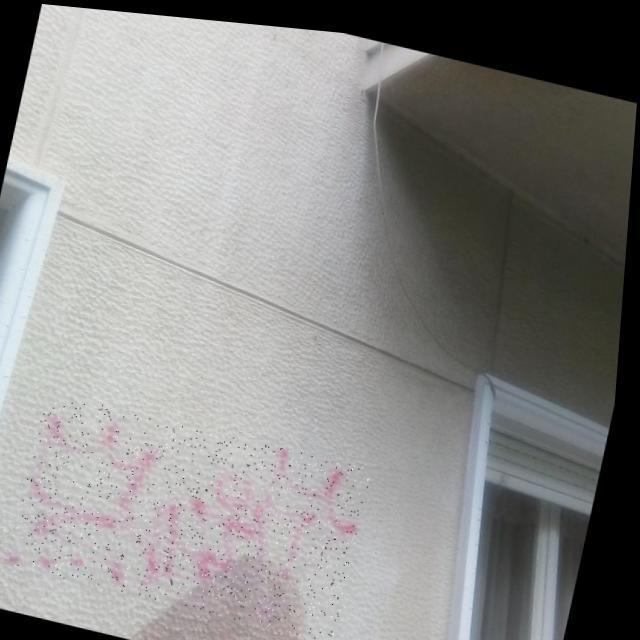-: (14, 388, 381, 637)
